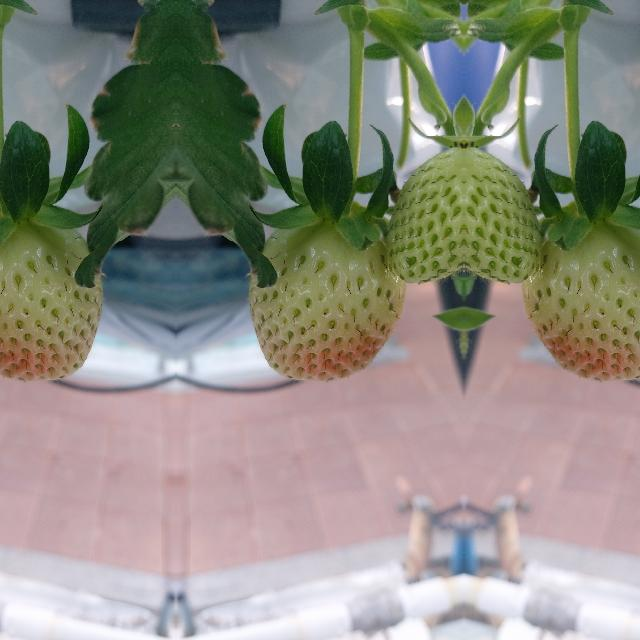Health_25: (383, 140, 462, 282), (463, 140, 542, 282)
Health_50: (248, 218, 404, 380), (522, 218, 640, 379), (0, 218, 102, 379)
